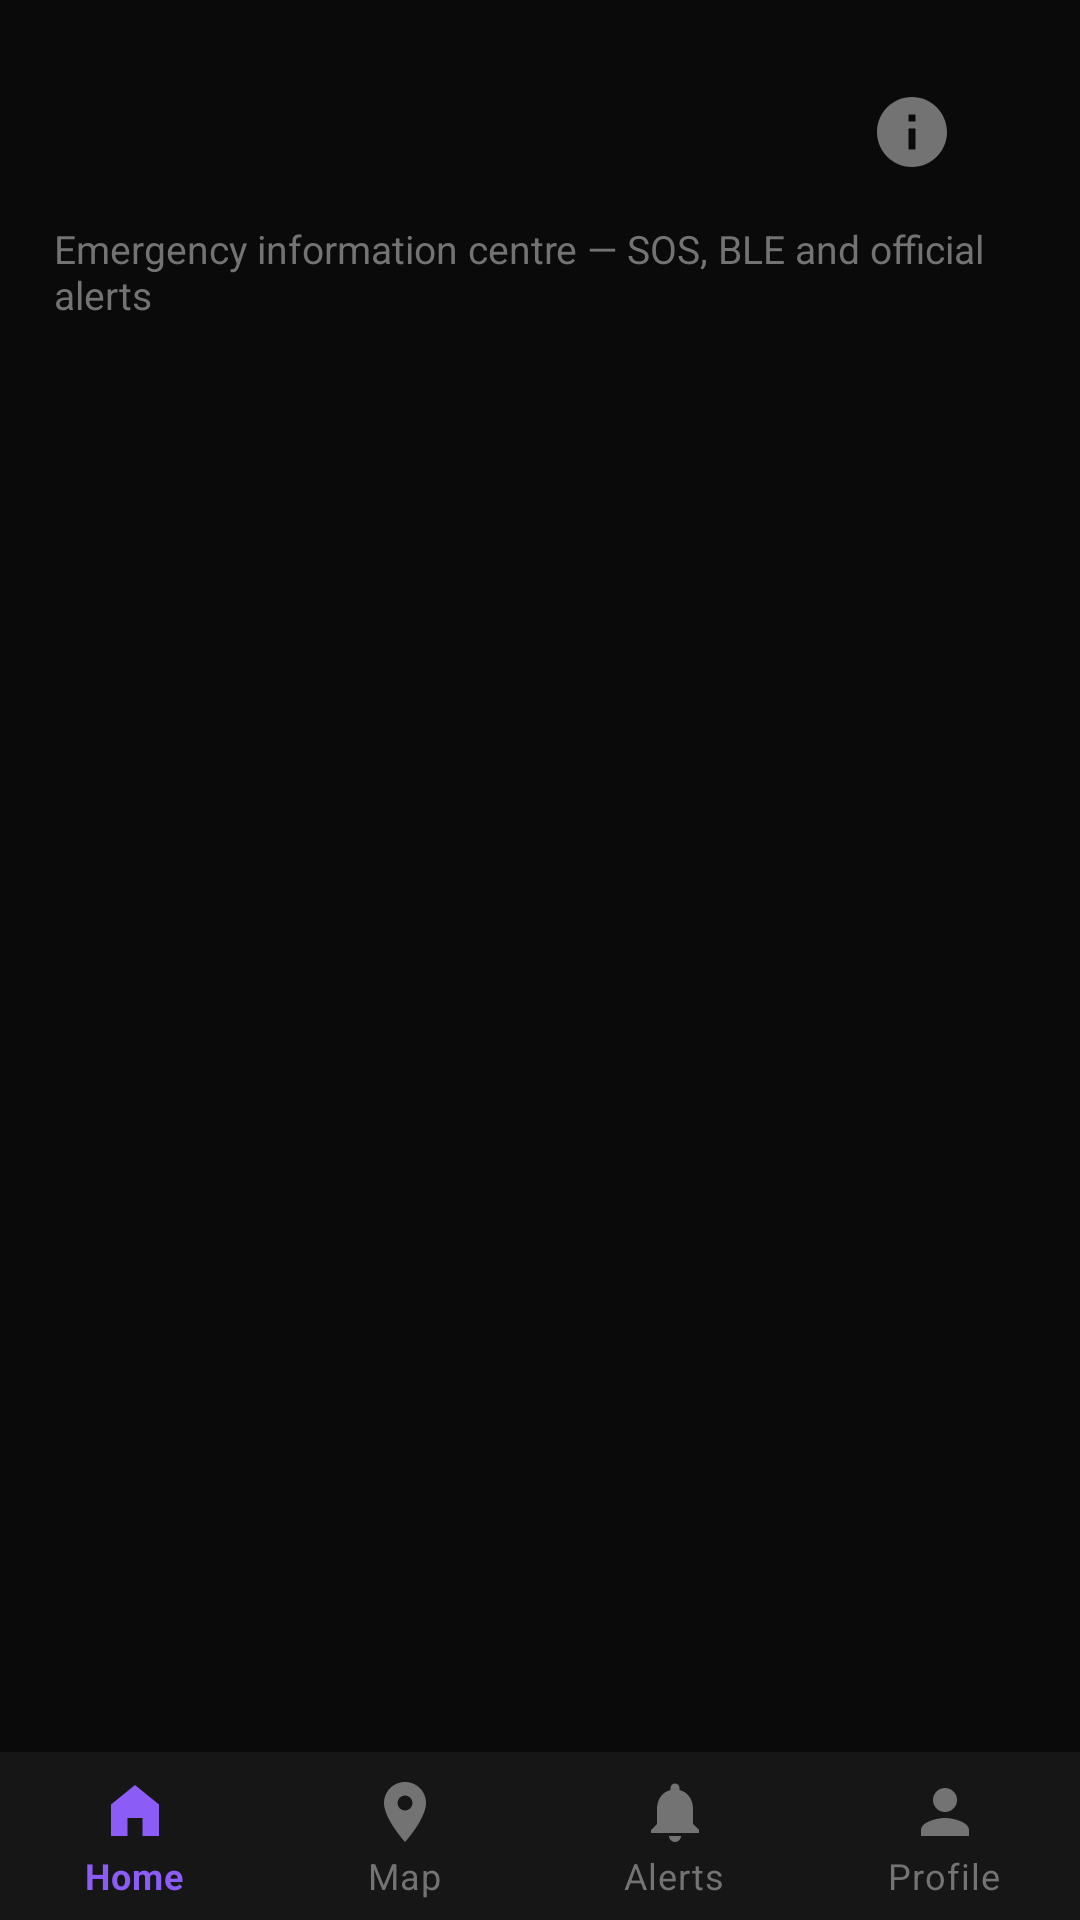

Icons on this 1080px x 1920px Android screen, each with its box as region(x1, y1, x2, y2):
Help: region(877, 97, 947, 167)
